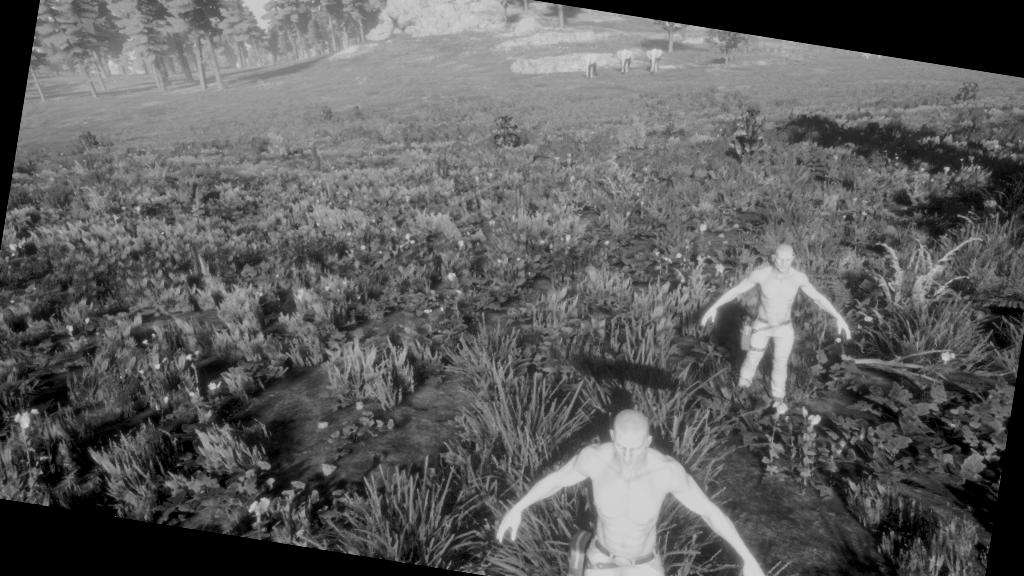elephant: (566, 42, 608, 90), (606, 42, 641, 83), (640, 41, 670, 79)
human: (461, 381, 804, 575), (648, 188, 876, 428)
